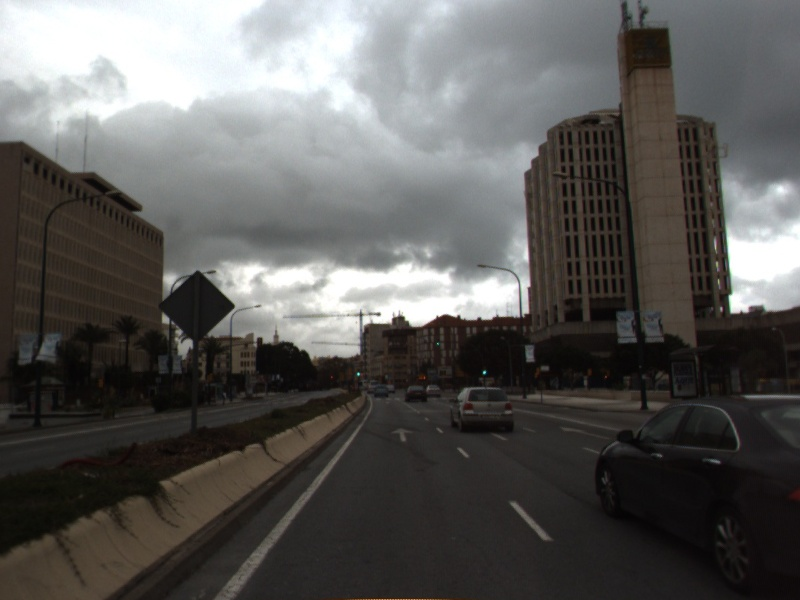STRAIGHT: (557, 424, 614, 441), (388, 425, 417, 444)
